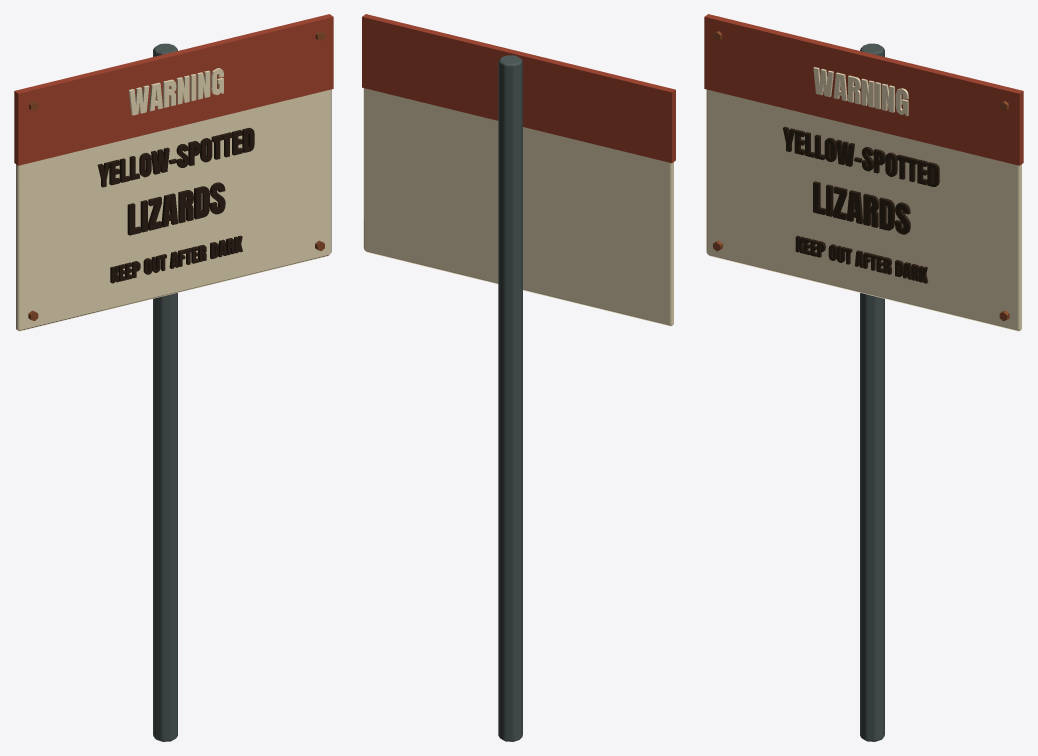
File: SignLizardWarning.glb
3 renders of one model, left to right at view 1: azimuth 30°, elevation 25°; view 2: azimuth 150°, elevation 25°; view 3: azimuth 330°, elevation 25°, orthographic.
Visible parts, largest first — view 1: SignLizardWarning.001; view 2: SignLizardWarning.001; view 3: SignLizardWarning.001.
Part boxes in pixels (bbox=[...]): SignLizardWarning.001: bbox=[14, 14, 333, 741]; SignLizardWarning.001: bbox=[362, 14, 675, 741]; SignLizardWarning.001: bbox=[704, 14, 1023, 741].
Size of the model in its own units: 1.1 by 2.3 by 0.1119.
